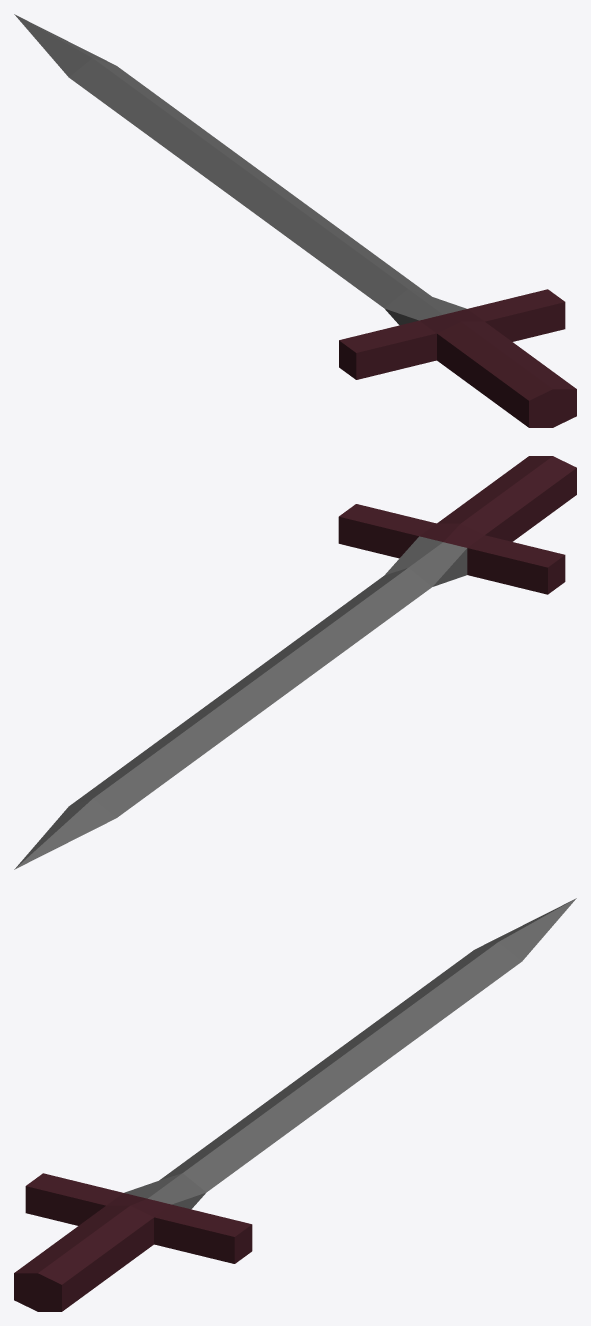
Rendered from sword.fbx.
3 renders of one model, top to bottom at view 1: azimuth 30°, elevation 25°; view 2: azimuth 150°, elevation 25°; view 3: azimuth 330°, elevation 25°, orthographic.
Parts seen in each view (by area): view 1: sword; view 2: sword; view 3: sword.
Part boxes in pixels (x1,y1,x2,y2): sword: (14, 14, 576, 427); sword: (14, 456, 576, 869); sword: (14, 898, 576, 1311).
Bounding box in the file's own units: 0.6844 × 0.1209 × 3.06.
